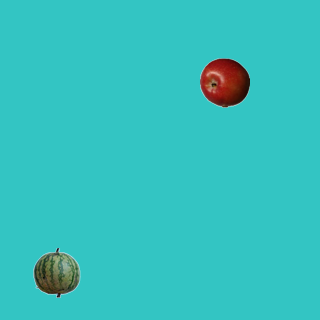Apple Braeburn: (199, 57, 249, 107)
Watermelon: (31, 247, 81, 297)
